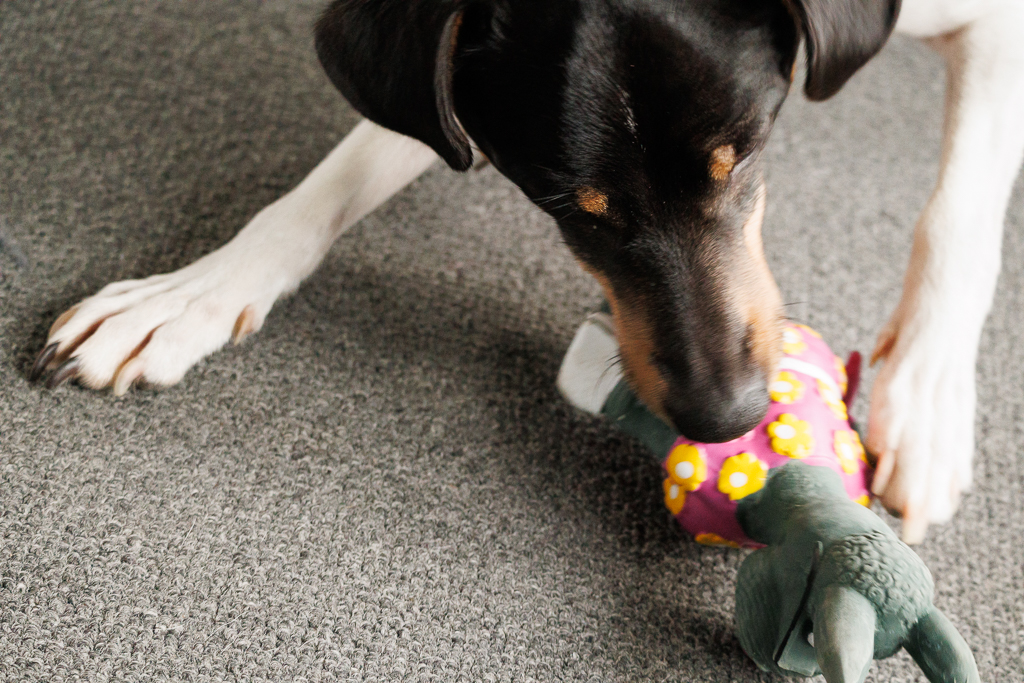Dog: (18, 0, 1024, 553)
Humanoid: (550, 264, 990, 683)
